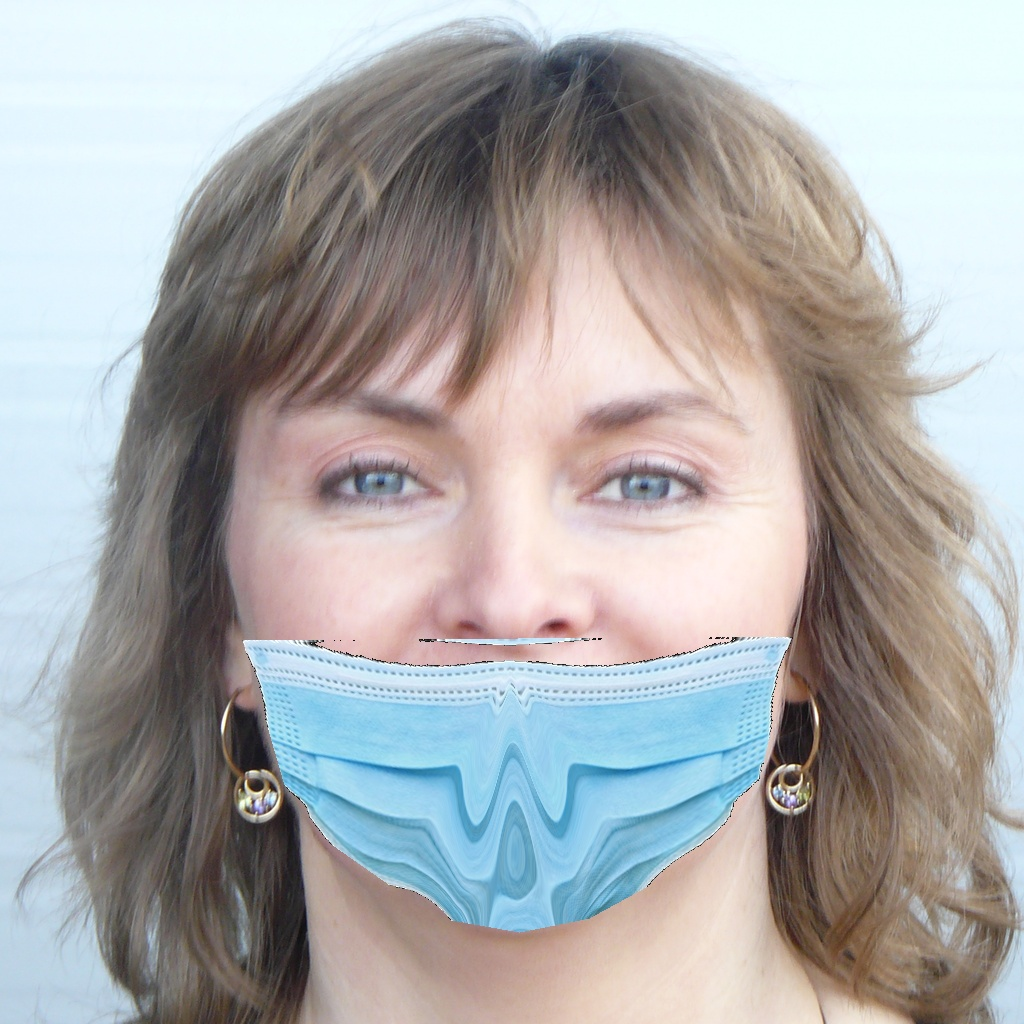mascarilla_mal_puesta: (138, 315, 891, 950)
